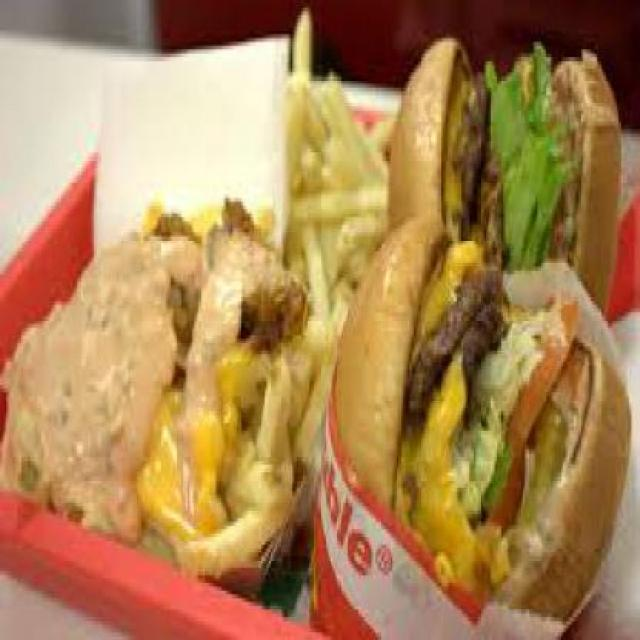french fries: (19, 4, 390, 579)
hamburger: (355, 30, 634, 625)
